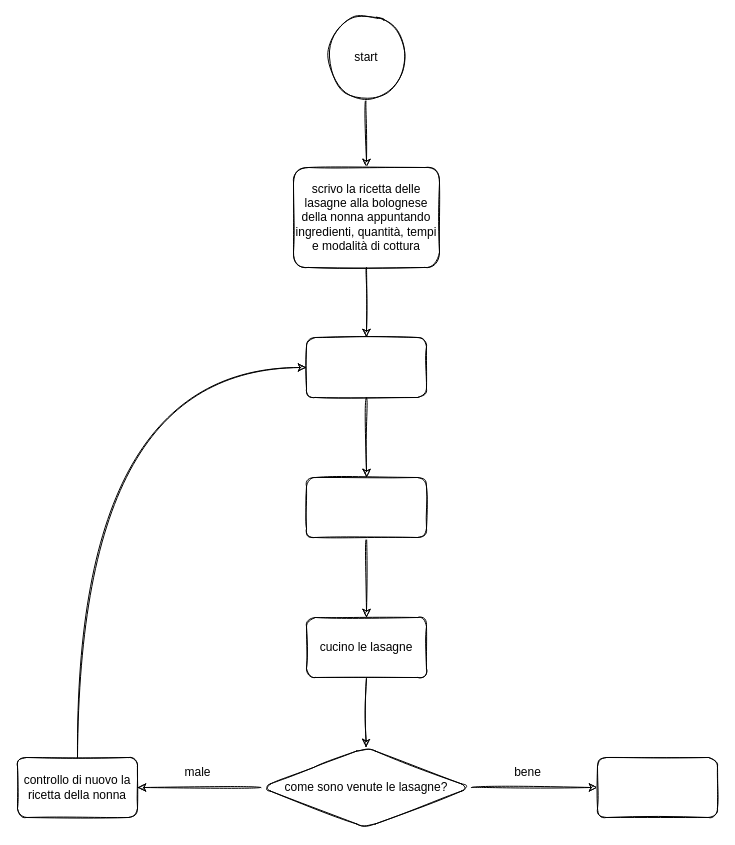
The diagram is 735 pixels wide and 845 high, and some of its shapes have lost their labels. Each missing label, with the box of its shape:
seguo la ricetta della nonna alla lettera: (306, 476, 426, 538)
sono felice per come sono venute ma rimangono meglio quelle della nonna: (596, 756, 718, 818)
vado in cucina: (306, 336, 426, 398)
